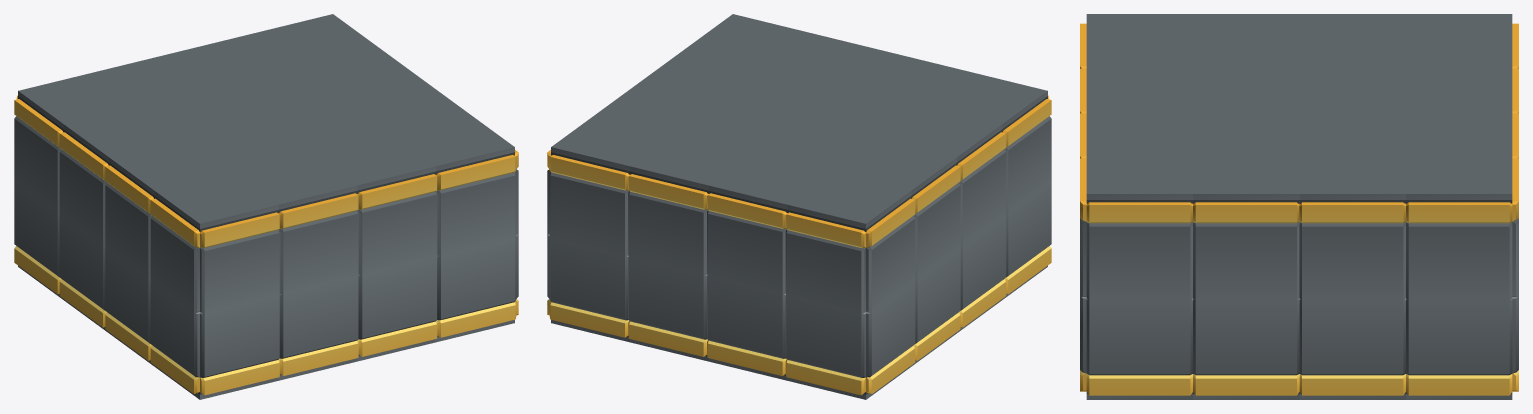
The model's file is level.glb.
3 renders of one model, left to right at view 1: azimuth 30°, elevation 25°; view 2: azimuth 150°, elevation 25°; view 3: azimuth 270°, elevation 25°, orthographic. The views are drawn at different scales.
Parts seen in each view (by area): view 1: Wall (×16), Floor (×17); view 2: Wall (×16), Floor (×17); view 3: Wall (×12), Floor (×20).
Part boxes in pixels (x1,y1,x2,y2): Wall (×16): (14, 99, 516, 395); Floor (×17): (18, 14, 514, 399); Wall (×16): (549, 99, 1051, 395); Floor (×17): (551, 14, 1047, 399); Wall (×12): (1080, 158, 1518, 395); Floor (×20): (1086, 14, 1512, 399).
Size of the model in its own units: 16.5 by 8.55 by 16.5.
6 materials, 6 textured.
